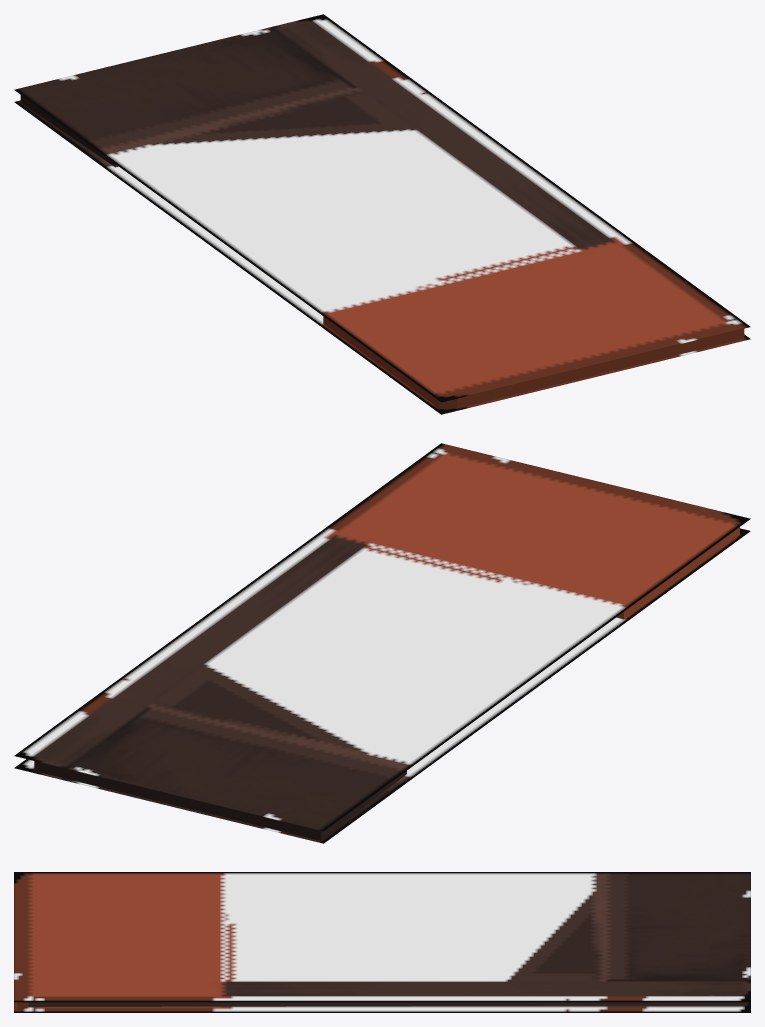
The model's file is pz_native_location_restaurant_seahorse_01_34_frame.obj.
3 views of the same model, one above another, from view 1: azimuth 30°, elevation 25°; view 2: azimuth 150°, elevation 25°; view 3: azimuth 270°, elevation 25° (orthographic). The views are drawn at different scales.
Visible parts, largest first — view 1: pz_native_location_restaurant_seahorse_01_34_frame; view 2: pz_native_location_restaurant_seahorse_01_34_frame; view 3: pz_native_location_restaurant_seahorse_01_34_frame.
Boxes of the visible parts, x1,y1,x2,y2 form: pz_native_location_restaurant_seahorse_01_34_frame: (14,14,750,414); pz_native_location_restaurant_seahorse_01_34_frame: (14,443,750,843); pz_native_location_restaurant_seahorse_01_34_frame: (14,872,750,1012).
Size of the model in its own units: 1.06 by 0.04 by 2.54.
Materials: 1 (1 with a texture image).
